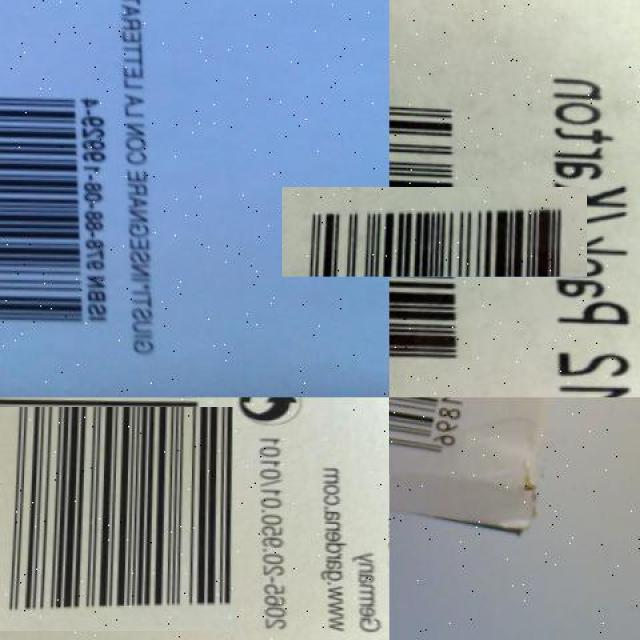Barcode: (0, 403, 229, 636), (335, 133, 533, 331), (0, 77, 116, 352), (389, 398, 514, 473)
